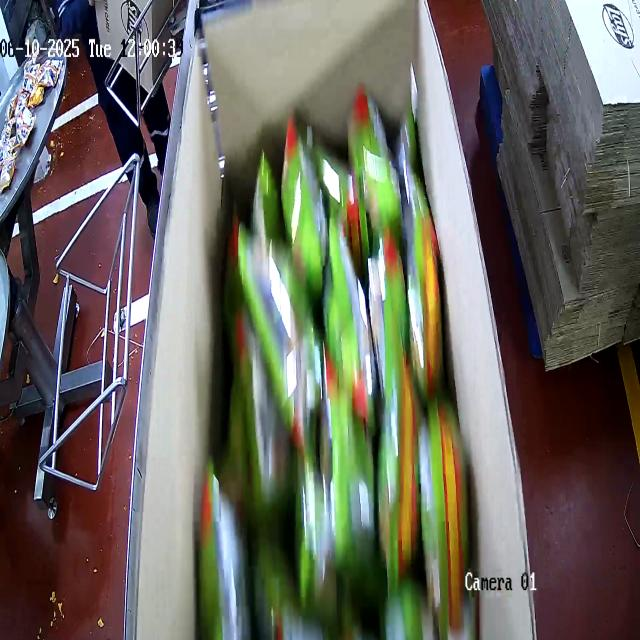YOGURT_HERB: (202, 90, 468, 637)
